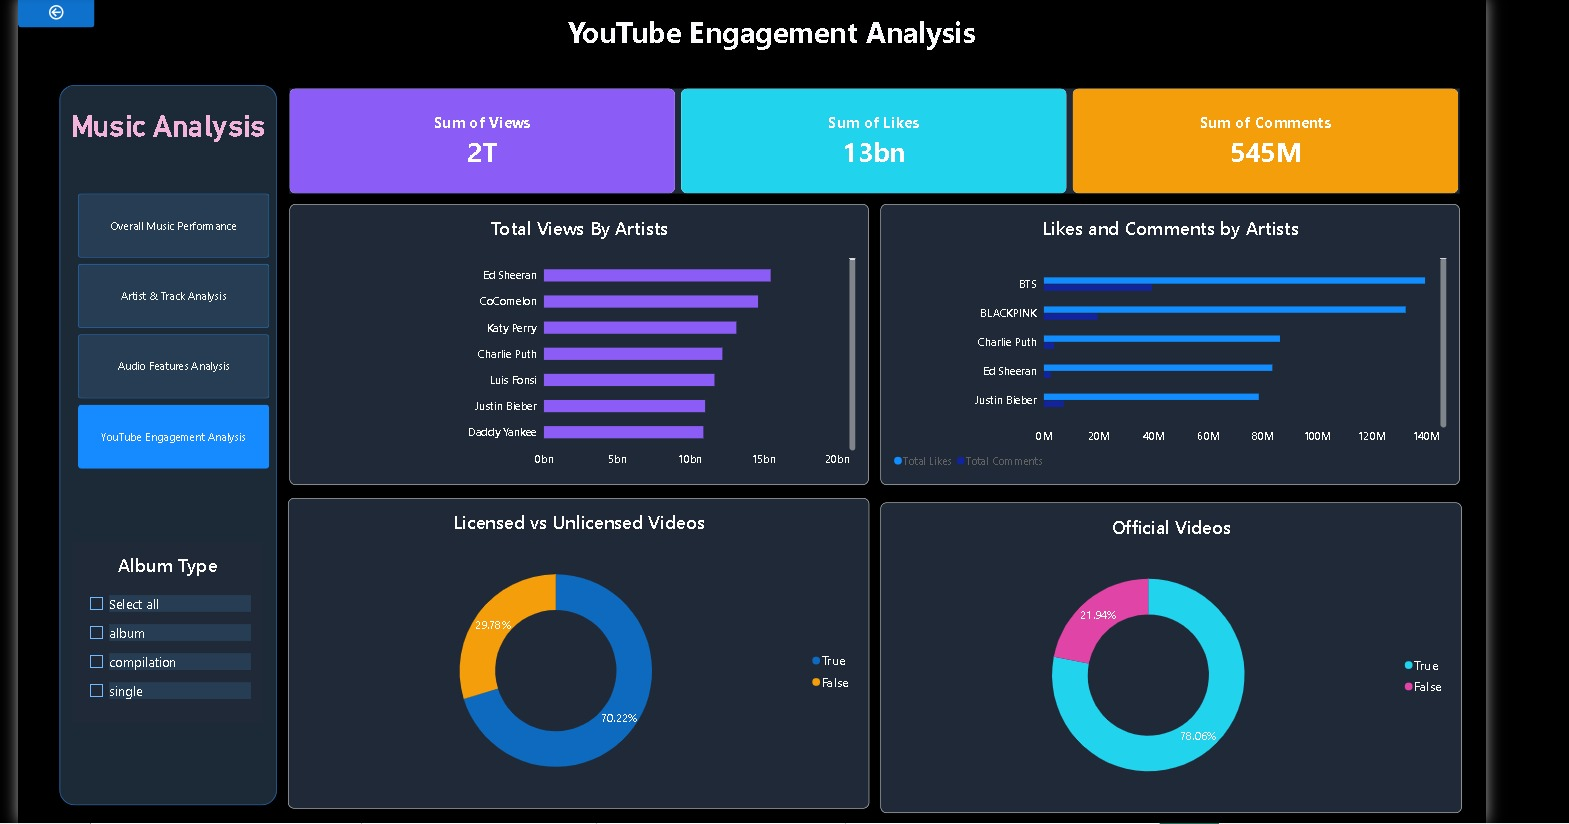

Layout of this report page (visuals, bound fields, positions):
{"tool":"powerbi","page":{"name":"YouTube Engagement Analysis","canvas":[1920,1080],"ordinal":3},"visuals":[{"type":"textbox","box":[532.5,20,902.5,60],"z":0},{"type":"cardVisual","fields":{"Data":["Sum(Spotify_Youtube Dataset.Views)","Sum(Spotify_Youtube Dataset.Likes)","Sum(Spotify_Youtube Dataset.Comments)"]},"box":[355,120,1530,137.5],"z":1000},{"type":"clusteredBarChart","title":"Total Views By Artists","fields":{"Category":["Spotify_Youtube Dataset.Artist"],"Y":["Sum(Spotify_Youtube Dataset.Views)"]},"box":[355,270,757.5,367.5],"z":2000},{"type":"clusteredBarChart","title":"Likes and Comments by Artists","fields":{"Category":["Spotify_Youtube Dataset.Artist"],"Y":["Spotify_Youtube Dataset.Total Likes","Spotify_Youtube Dataset.Total Comments"]},"box":[1127.5,270,757.5,367.5],"z":3000},{"type":"actionButton","box":[0,0,100,40],"z":5000},{"type":"shape","box":[45,105,302.5,960],"z":6000},{"type":"donutChart","title":"Licensed vs Unlicensed Videos","fields":{"Category":["Spotify_Youtube Dataset.Licensed"],"Y":["CountNonNull(Spotify_Youtube Dataset.Track)"]},"box":[352.5,655,760,406],"z":8000},{"type":"donutChart","title":"Official Videos","fields":{"Category":["Spotify_Youtube Dataset.official_video"],"Y":["CountNonNull(Spotify_Youtube Dataset.Track)"]},"box":[1127.5,660,760,406],"z":8001},{"type":"pageNavigator","box":[77.5,257.5,250,360],"z":8002},{"type":"textbox","box":[68,145,300,90],"z":8003},{"type":"slicer","title":"Album Type","fields":{"Values":["Spotify_Youtube Dataset.Album_type"]},"box":[70,712.5,250,237.5],"z":8004}]}

Visuals, with their boxes on the page's 1920x1080 design canvas (x1, y1, x2, y2). These are canvas units, not pixel positions in the 1569x824 screenshot, which may show the page scaled, cropped or inside an application window:
textbox: <region>532, 20, 1435, 80</region>
cardVisual - Sum(Spotify_Youtube Dataset.Views) x Sum(Spotify_Youtube Dataset.Likes): <region>355, 120, 1885, 258</region>
"Total Views By Artists" clusteredBarChart: <region>355, 270, 1112, 638</region>
"Likes and Comments by Artists" clusteredBarChart: <region>1128, 270, 1885, 638</region>
actionButton: <region>0, 0, 100, 40</region>
shape: <region>45, 105, 348, 1065</region>
"Licensed vs Unlicensed Videos" donutChart: <region>352, 655, 1112, 1061</region>
"Official Videos" donutChart: <region>1128, 660, 1888, 1066</region>
pageNavigator: <region>78, 258, 328, 618</region>
textbox: <region>68, 145, 368, 235</region>
"Album Type" slicer: <region>70, 712, 320, 950</region>
